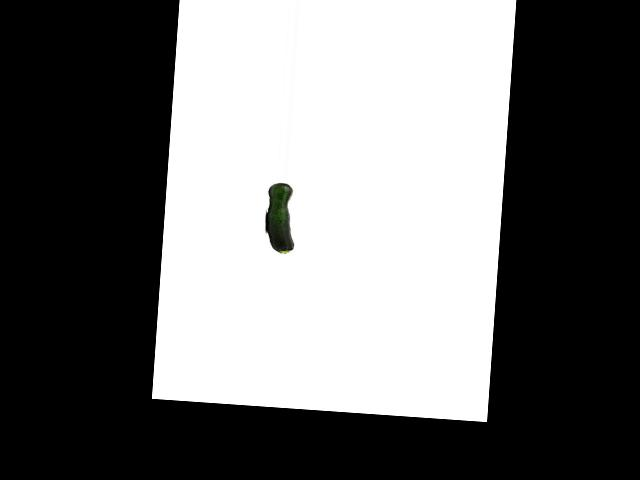cucumber: (263, 182, 298, 254)
